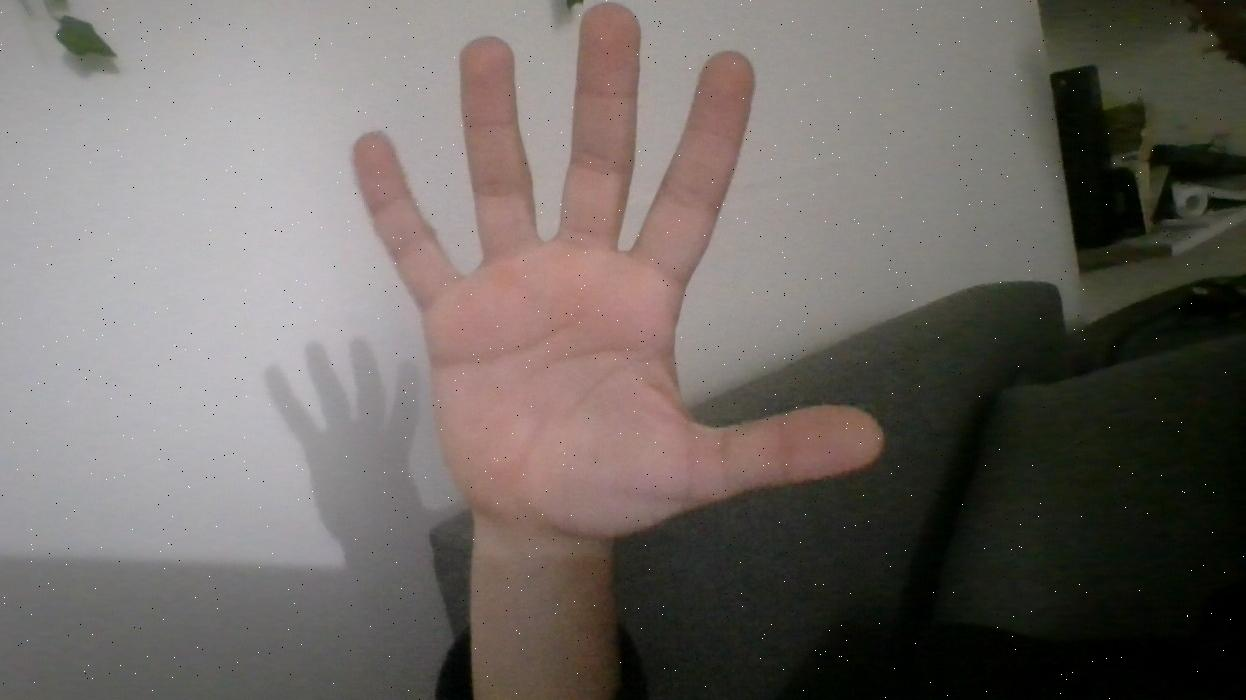hi: (320, 0, 899, 567)
